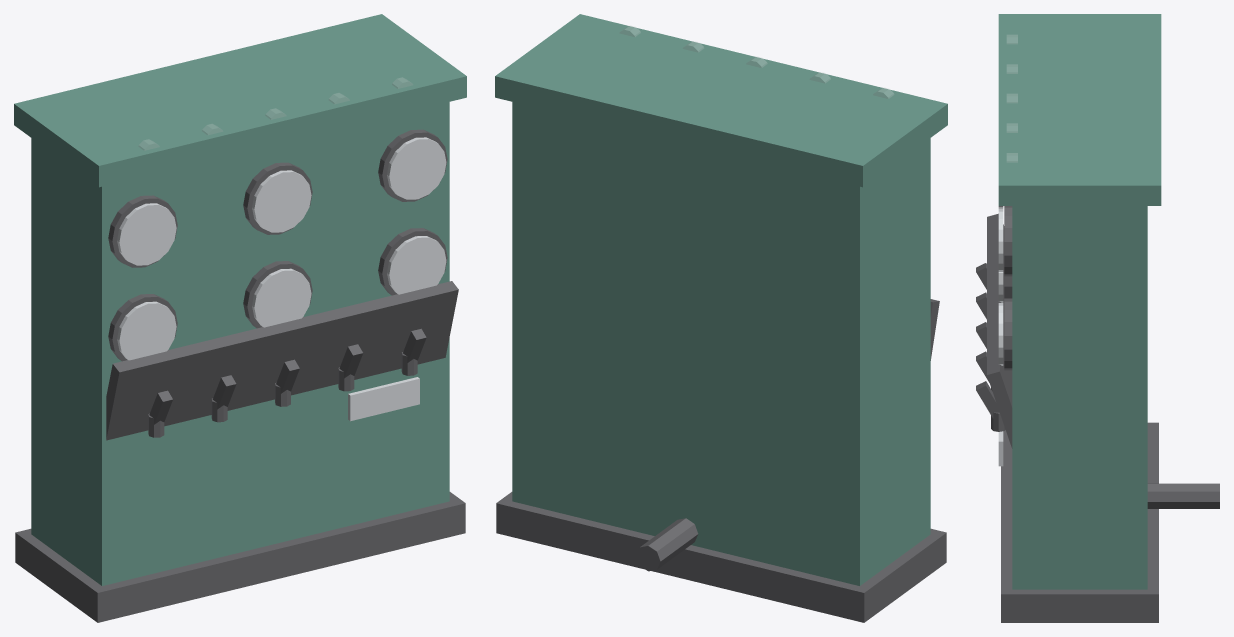
File: distillery-and-bonded-warehouse-control-panel-25f85208__38681.glb
The picture shows the model from 3 angles, left to right: view 1: azimuth 30°, elevation 25°; view 2: azimuth 150°, elevation 25°; view 3: azimuth 270°, elevation 25°; orthographic projection. The views are drawn at different scales.
Visible parts, largest first — view 1: control-panel-paint, control-panel-iron, control-panel-steel, control-panel-glass; view 2: control-panel-paint, control-panel-iron, control-panel-glass; view 3: control-panel-paint, control-panel-iron, control-panel-steel, control-panel-glass.
Part boxes in pixels (box(x1,y1,x2,y2)): control-panel-paint: box(14, 14, 466, 585); control-panel-iron: box(15, 129, 465, 622); control-panel-steel: box(117, 137, 446, 421); control-panel-glass: box(138, 77, 412, 150); control-panel-paint: box(495, 14, 947, 585); control-panel-iron: box(496, 299, 946, 622); control-panel-glass: box(620, 25, 893, 98); control-panel-paint: box(998, 14, 1161, 589); control-panel-iron: box(976, 206, 1219, 622); control-panel-steel: box(998, 206, 1003, 466); control-panel-glass: box(1007, 35, 1017, 162).
Bounding box in the file's own units: 1.8 × 2.16 × 1.08.
